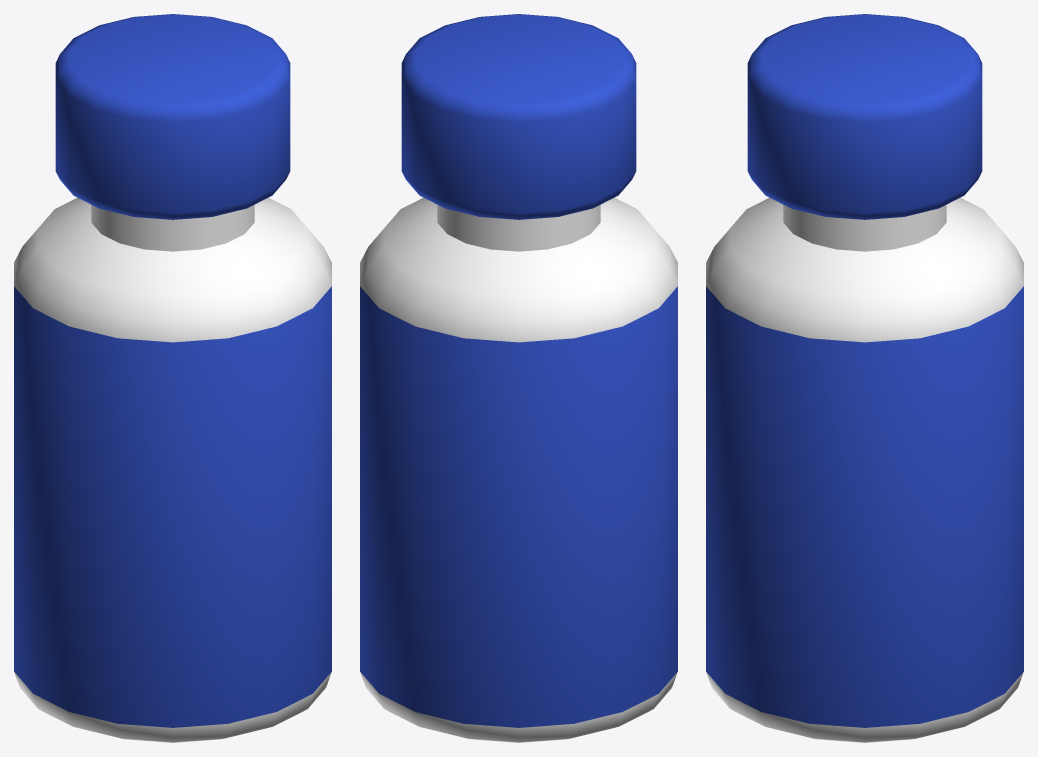
The model's file is milk_bottle.fbx.
3 views of the same model, side by side, from view 1: azimuth 30°, elevation 25°; view 2: azimuth 150°, elevation 25°; view 3: azimuth 270°, elevation 25° (orthographic).
Parts seen in each view (by area): view 1: milk_bottle; view 2: milk_bottle; view 3: milk_bottle.
Boxes of the visible parts, x1,y1,x2,y2 form: milk_bottle: [14, 14, 331, 742]; milk_bottle: [360, 14, 677, 742]; milk_bottle: [706, 14, 1023, 742].
Size of the model in its own units: 0.117 by 0.2499 by 0.1152.
